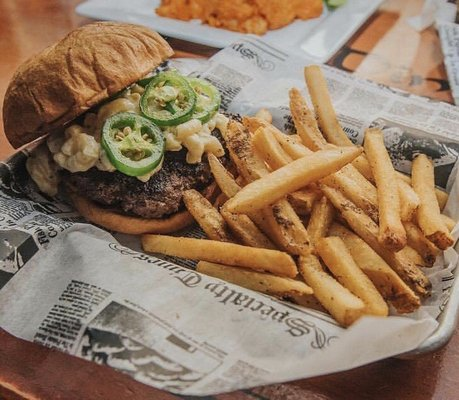soup: (0, 22, 230, 236)
